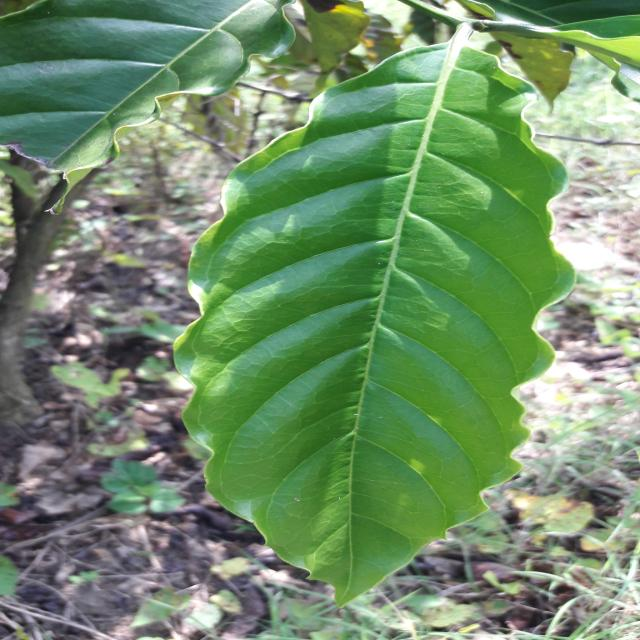Sanas: (173, 24, 578, 608)
